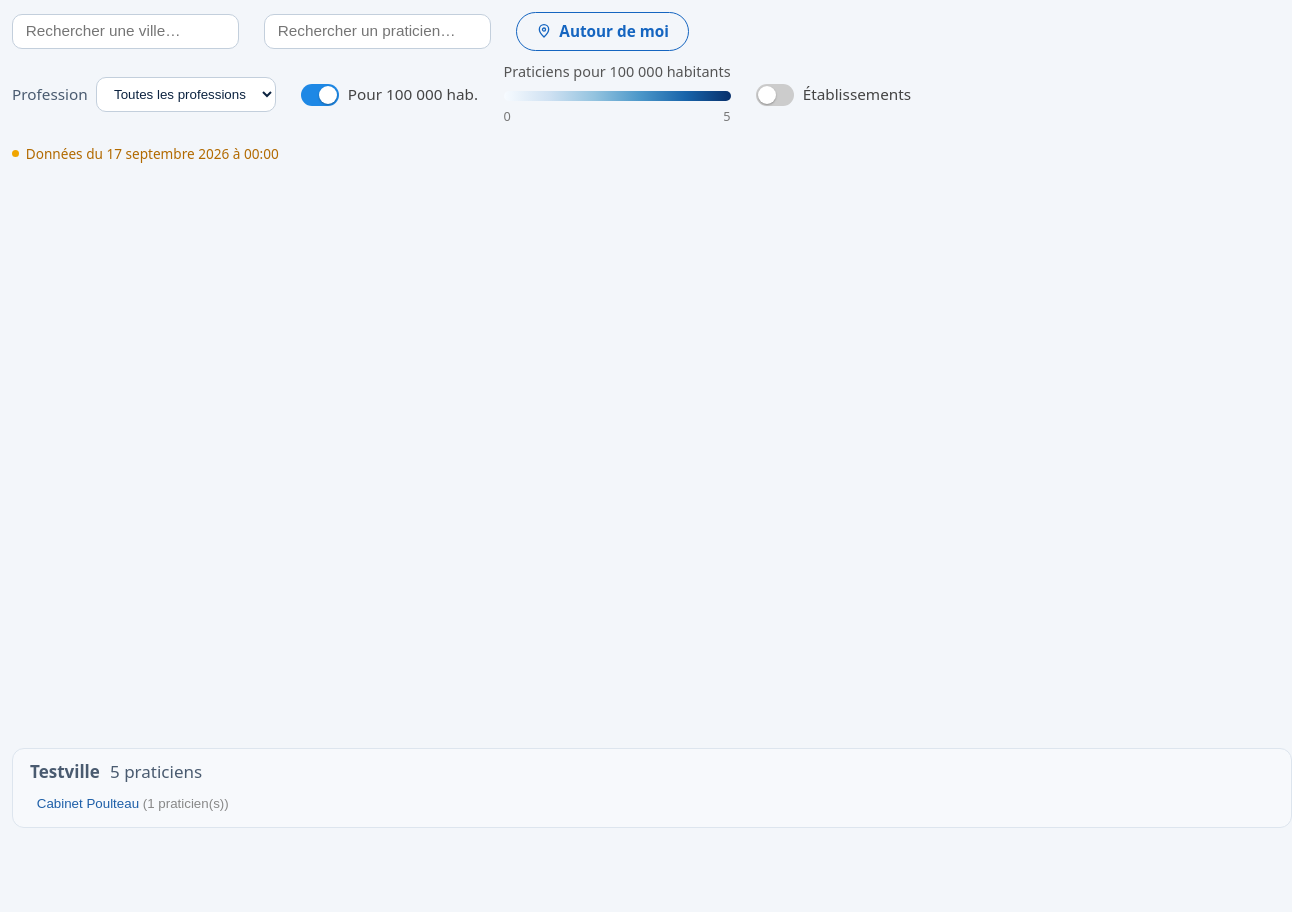
Test: LeafletFranceMap › un praticien isolé dont l'adresse n'a pas pu être géocodée reste accessible via la liste, sans être perdu
The image size is (1292, 912).
Click the button "Cabinet Poulteau (1 praticien(s))" at (90, 804), box top-left (30, 791), bottom-right (1274, 816)
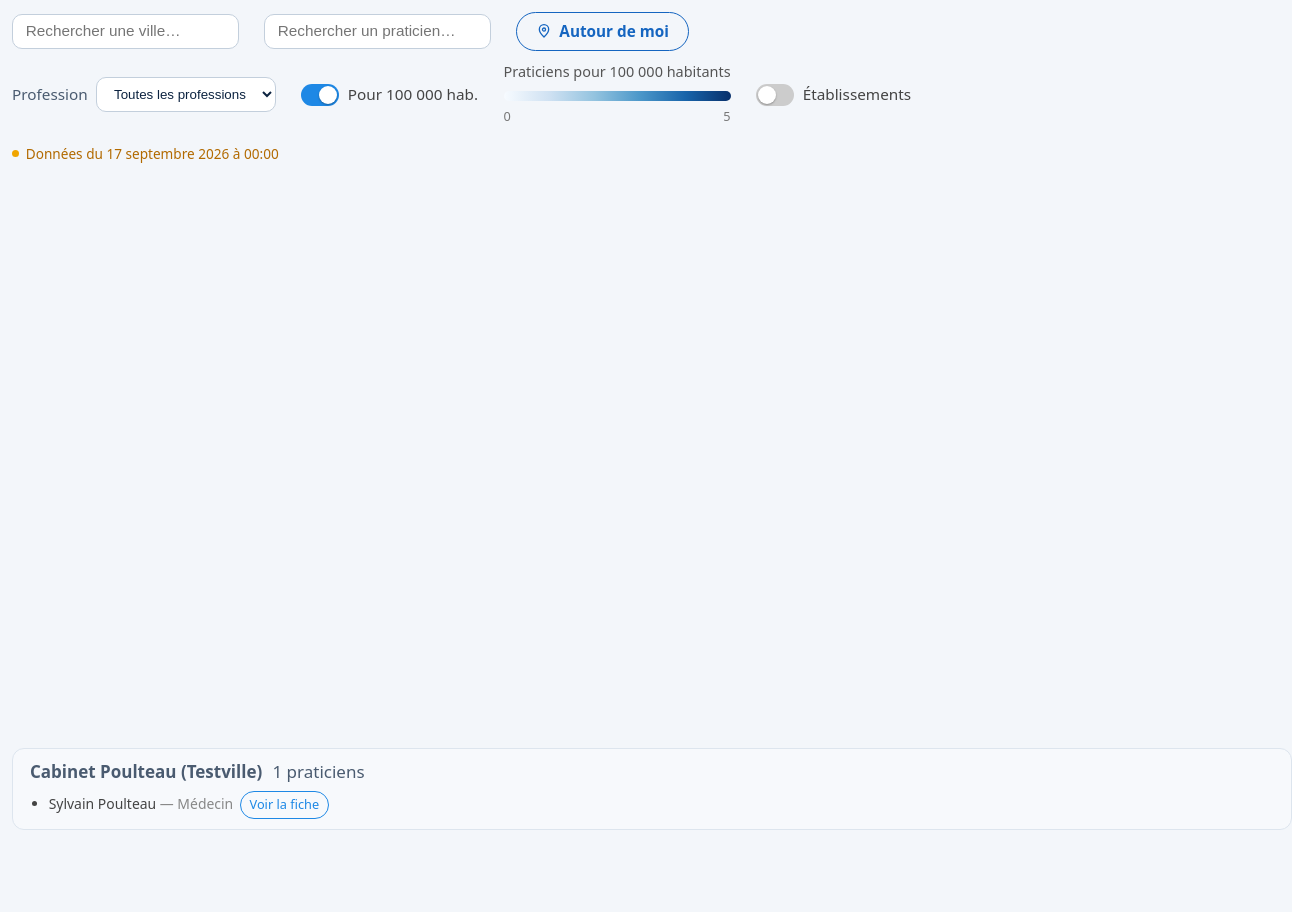
Expected: the text "Poulteau" is shown, top-left (30, 760), bottom-right (262, 783)
Now the text "Sylvain" is shown, box top-left (49, 794), bottom-right (160, 813)
Now the text "1 praticiens" is shown, box top-left (272, 759), bottom-right (364, 784)
